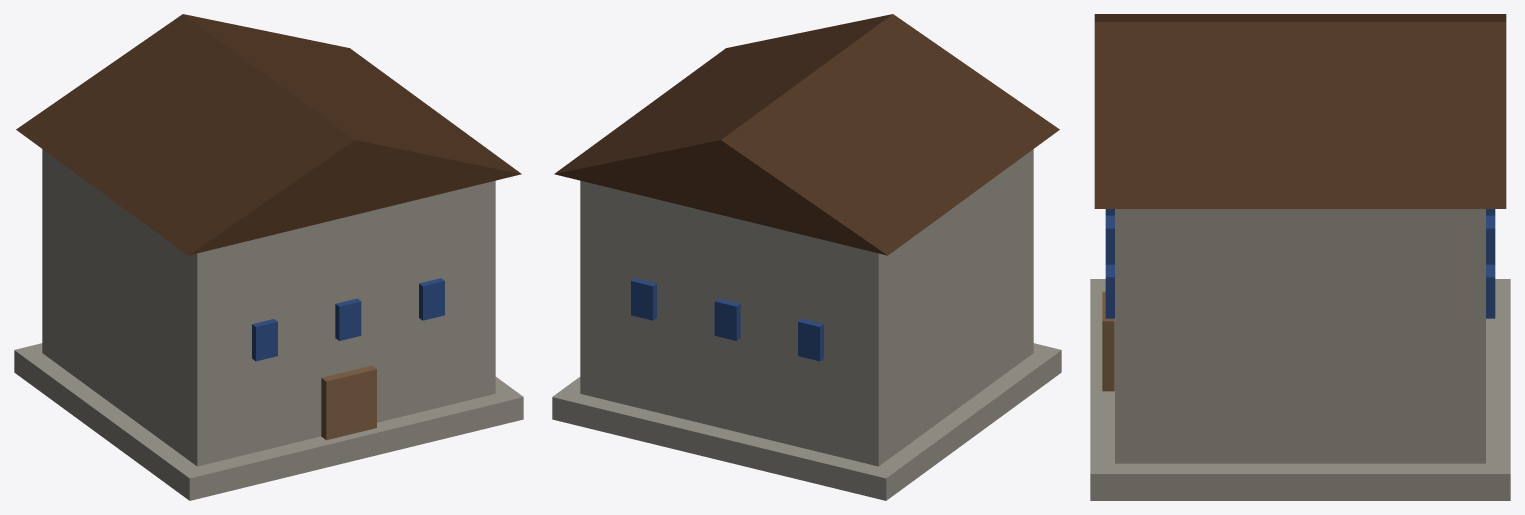
The model's file is bld_residential_a02.glb.
3 renders of one model, left to right at view 1: azimuth 30°, elevation 25°; view 2: azimuth 150°, elevation 25°; view 3: azimuth 270°, elevation 25°, orthographic. The views are drawn at different scales.
Visible parts, largest first — view 1: body; view 2: body; view 3: body.
Part boxes in pixels (<box>): body: <box>14,14,523,500</box>; body: <box>552,14,1061,500</box>; body: <box>1090,14,1510,500</box>.
Size of what is drawn, in the model's own units: 5.6 by 5.11 by 5.1.
